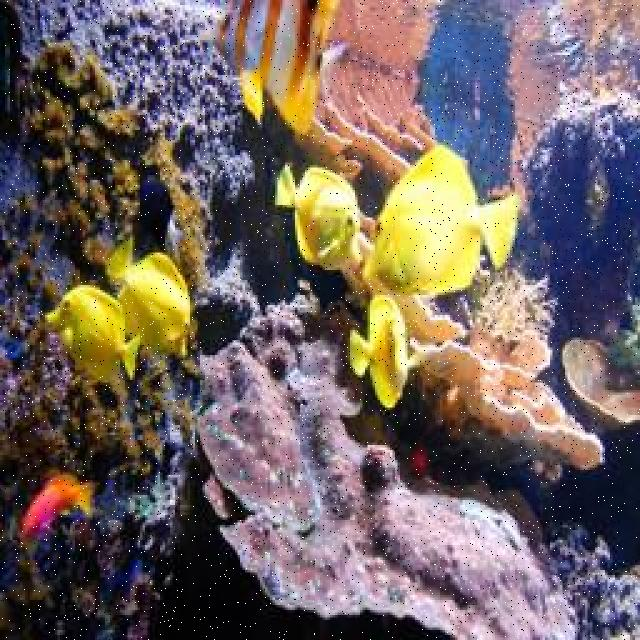fish: (364, 145, 521, 299), (214, 0, 353, 135), (106, 238, 191, 358), (273, 163, 361, 269), (44, 286, 141, 382), (349, 296, 409, 408), (22, 474, 96, 538), (413, 446, 428, 476)
reefs: (197, 316, 578, 638), (340, 210, 605, 483), (297, 60, 439, 183), (562, 338, 638, 423)
